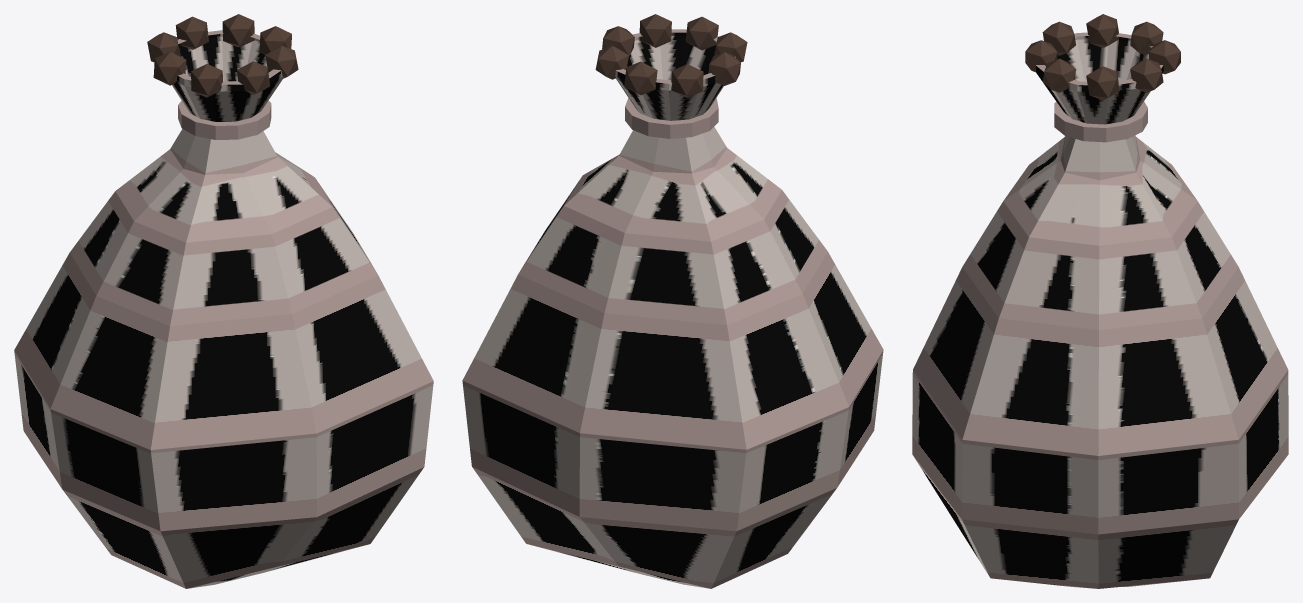
File: red pescados (1).fbx
The picture shows the model from 3 angles, left to right: view 1: azimuth 30°, elevation 25°; view 2: azimuth 150°, elevation 25°; view 3: azimuth 270°, elevation 25°; orthographic projection.
Visible parts, largest first — view 1: Cylinder.002; view 2: Cylinder.002; view 3: Cylinder.002.
Boxes of the visible parts, <box> form: Cylinder.002: <box>14,14,433,588</box>; Cylinder.002: <box>462,14,883,588</box>; Cylinder.002: <box>912,14,1288,588</box>.
Bounding box in the file's own units: 384 × 555 × 354.
1 material, 1 textured.
